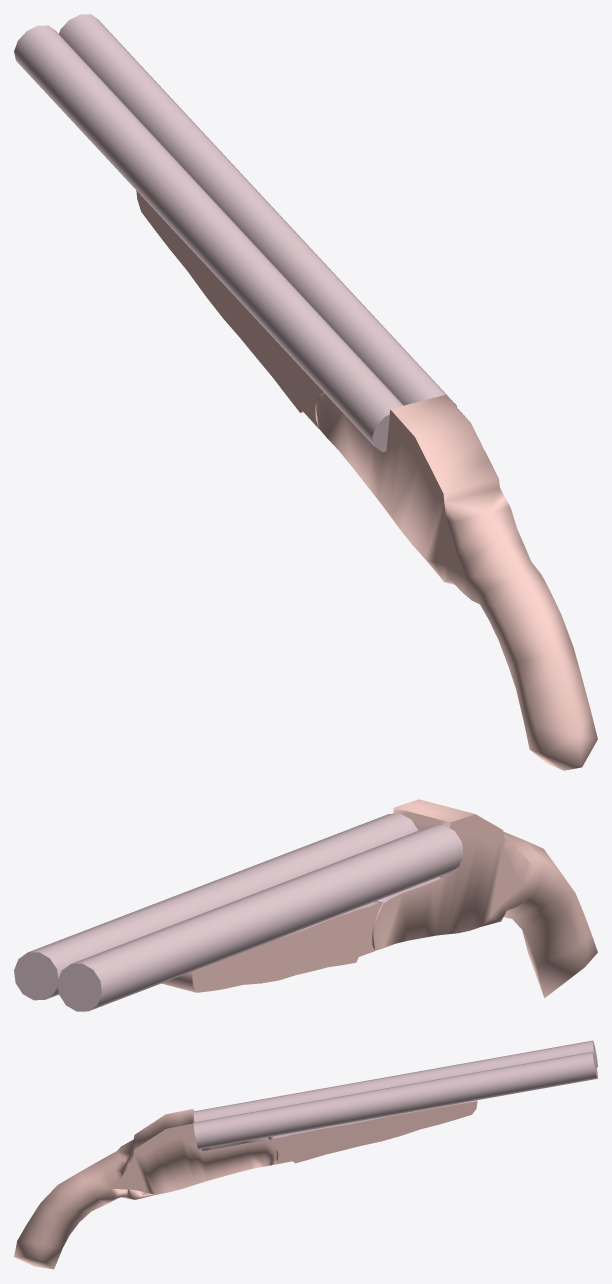
File: w_doublebarrel.fbx
3 views of the same model, one above another, from view 1: azimuth 30°, elevation 25°; view 2: azimuth 150°, elevation 25°; view 3: azimuth 270°, elevation 25° (orthographic). The views are drawn at different scales.
Parts seen in each view (by area): view 1: w_doublebarrel; view 2: w_doublebarrel; view 3: w_doublebarrel.
Boxes of the visible parts, bbox=[...] form: w_doublebarrel: bbox=[14, 14, 597, 770]; w_doublebarrel: bbox=[14, 799, 597, 1011]; w_doublebarrel: bbox=[14, 1040, 597, 1269].
Bounding box in the file's own units: 3.19 × 13.57 × 32.57.
